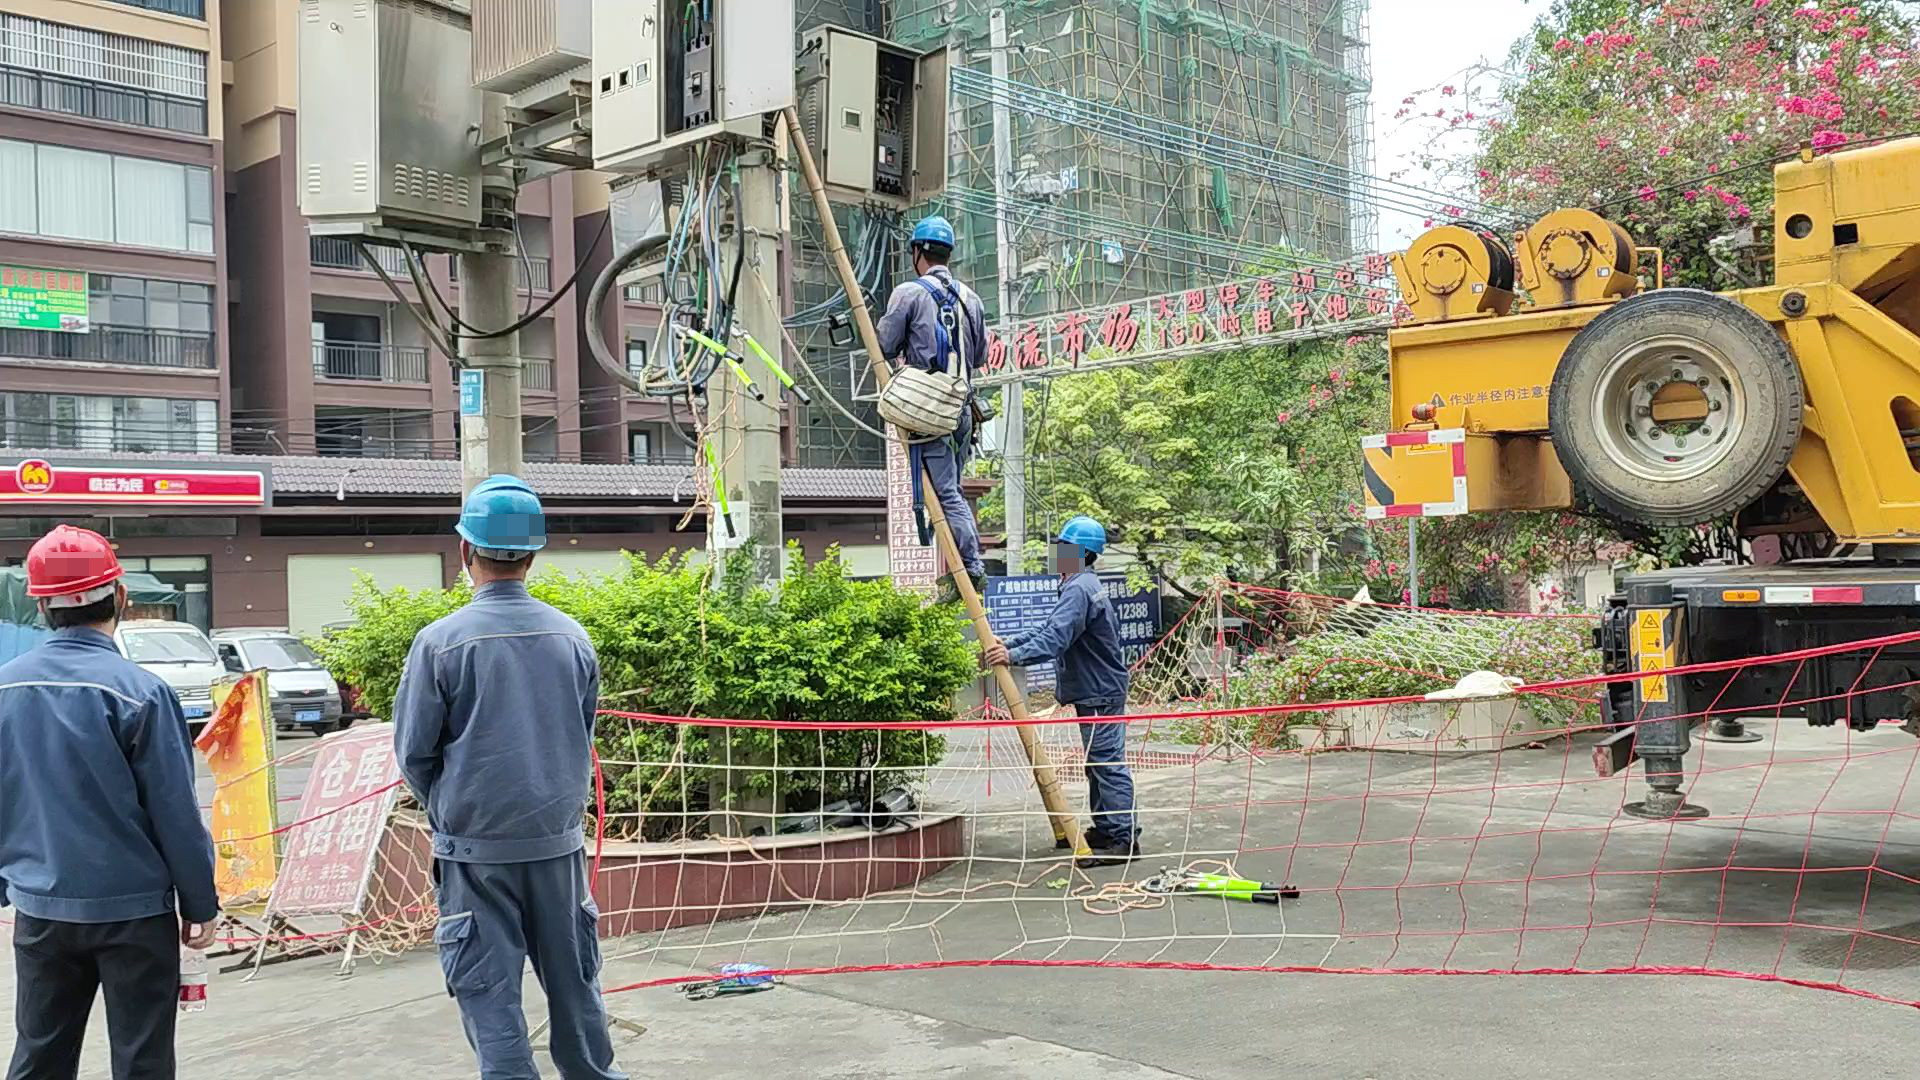downsuit: (437, 876, 617, 1077), (6, 936, 185, 1080), (914, 446, 984, 559), (1082, 710, 1138, 836)
halt: (20, 525, 128, 637), (452, 472, 548, 573), (1052, 515, 1108, 568), (907, 217, 957, 269)
hand: (183, 905, 218, 945), (981, 641, 1016, 663)
inear: (450, 531, 486, 567), (1058, 540, 1085, 567), (904, 237, 927, 267)
person: (389, 471, 619, 1078), (3, 523, 235, 1079), (996, 514, 1156, 845), (870, 217, 992, 561)
safebelt: (894, 270, 972, 405)
support: (956, 496, 1151, 868)
upsuit: (1, 628, 226, 923), (393, 584, 607, 858), (991, 568, 1141, 703), (878, 267, 990, 378)
